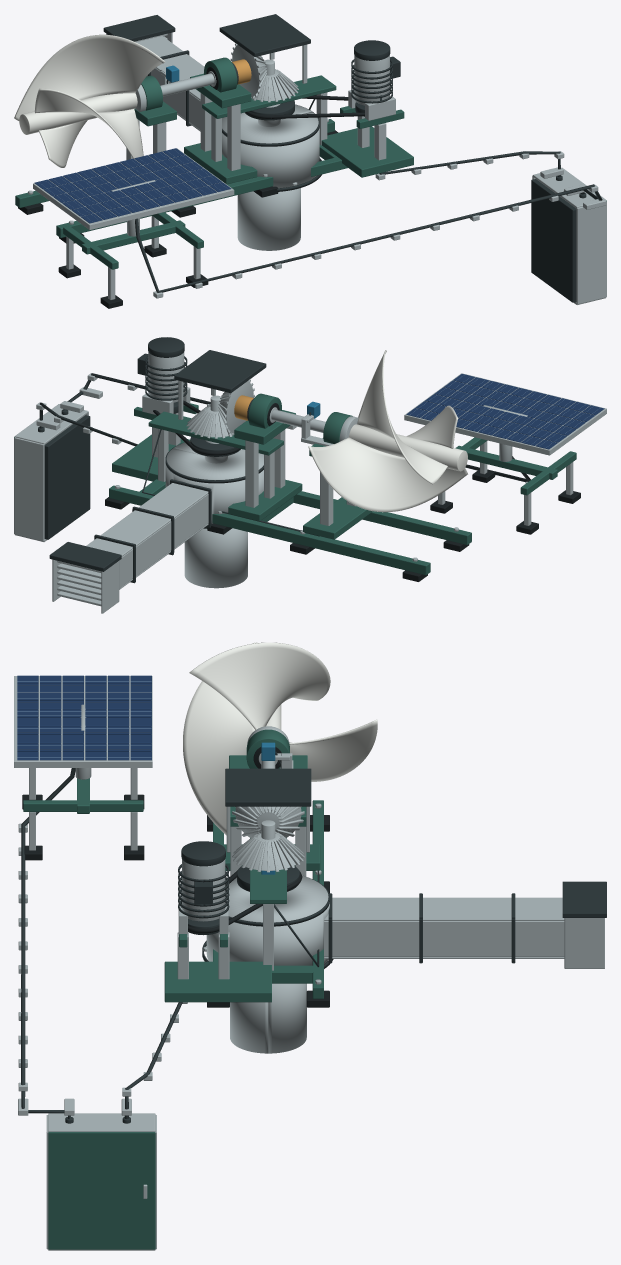
File: hybrid-assembly.glb
3 views of the same model, one above another, from view 1: azimuth 30°, elevation 25°; view 2: azimuth 150°, elevation 25°; view 3: azimuth 270°, elevation 25° (orthographic). The views are drawn at different scales.
Parts seen in each view (by area): view 1: WindRotor_Ceramic white rotor, Frame_Deep green powder coat, SolarTilt_Monocrystalline silicon, Electrical_Anodized graphite, FanHousing_Brushed stainless 304, Electrical_Brushed stainless 304, Frame_Brushed stainless 304, SectionGuard_Anodized graphite, SolarTilt_Brushed stainless 304, Duct_Brushed stainless 304, SectionGuard_Brushed stainless 304, SolarRack_Deep green powder coat (+13 smaller); view 2: Frame_Deep green powder coat, WindRotor_Ceramic white rotor, Duct_Brushed stainless 304, SolarTilt_Monocrystalline silicon, Electrical_Anodized graphite, Electrical_Brushed stainless 304, FanHousing_Brushed stainless 304, Frame_Brushed stainless 304, SectionGuard_Anodized graphite, SectionGuard_Brushed stainless 304, Duct_Anodized graphite, SolarTilt_Brushed stainless 304 (+13 smaller); view 3: WindRotor_Ceramic white rotor, Duct_Brushed stainless 304, CabinetDoor_Deep green powder coat, SolarTilt_Monocrystalline silicon, Frame_Deep green powder coat, FanHousing_Brushed stainless 304, Electrical_Brushed stainless 304, SectionGuard_Anodized graphite, Frame_Brushed stainless 304, SectionGuard_Brushed stainless 304, Duct_Anodized graphite, Motor_Anodized graphite (+10 smaller).
Part boxes in pixels (left/top/right/bottom): WindRotor_Ceramic white rotor: left=14, top=34, right=165, bottom=167; Frame_Deep green powder coat: left=15, top=57, right=413, bottom=237; SolarTilt_Monocrystalline silicon: left=34, top=148, right=231, bottom=223; Electrical_Anodized graphite: left=134, top=95, right=602, bottom=302; FanHousing_Brushed stainless 304: left=222, top=104, right=319, bottom=250; Electrical_Brushed stainless 304: left=153, top=151, right=606, bottom=304; Frame_Brushed stainless 304: left=28, top=71, right=395, bottom=224; SectionGuard_Anodized graphite: left=219, top=14, right=319, bottom=146; SolarTilt_Brushed stainless 304: left=33, top=148, right=234, bottom=229; Duct_Brushed stainless 304: left=106, top=32, right=204, bottom=131; SectionGuard_Brushed stainless 304: left=222, top=44, right=318, bottom=143; SolarRack_Deep green powder coat: left=63, top=212, right=203, bottom=269; Frame_Deep green powder coat: left=109, top=393, right=471, bottom=575; WindRotor_Ceramic white rotor: left=308, top=350, right=467, bottom=512; Duct_Brushed stainless 304: left=52, top=483, right=211, bottom=613; SolarTilt_Monocrystalline silicon: left=406, top=374, right=604, bottom=449; Electrical_Anodized graphite: left=38, top=373, right=530, bottom=539; Electrical_Brushed stainless 304: left=14, top=373, right=527, bottom=541; FanHousing_Brushed stainless 304: left=165, top=440, right=263, bottom=588; Frame_Brushed stainless 304: left=115, top=387, right=458, bottom=561; SectionGuard_Anodized graphite: left=165, top=350, right=266, bottom=483; SectionGuard_Brushed stainless 304: left=166, top=380, right=263, bottom=480; Duct_Anodized graphite: left=49, top=479, right=211, bottom=583; SolarTilt_Brushed stainless 304: left=404, top=373, right=606, bottom=455; WindRotor_Ceramic white rotor: left=183, top=642, right=377, bottom=835; Duct_Brushed stainless 304: left=324, top=897, right=604, bottom=968; CabinetDoor_Deep green powder coat: left=48, top=1132, right=155, bottom=1249; SolarTilt_Monocrystalline silicon: left=17, top=675, right=151, bottom=760; Frame_Deep green powder coat: left=164, top=729, right=323, bottom=1002; FanHousing_Brushed stainless 304: left=203, top=902, right=329, bottom=1053; Electrical_Brushed stainless 304: left=18, top=823, right=187, bottom=1250; SectionGuard_Anodized graphite: left=225, top=768, right=329, bottom=926; Frame_Brushed stainless 304: left=177, top=753, right=321, bottom=984; SectionGuard_Brushed stainless 304: left=225, top=806, right=328, bottom=922; Duct_Anodized graphite: left=328, top=881, right=606, bottom=963; Motor_Anodized graphite: left=178, top=841, right=229, bottom=918.
Bounding box in the file's own units: 8.12 × 4.36 × 6.41.
